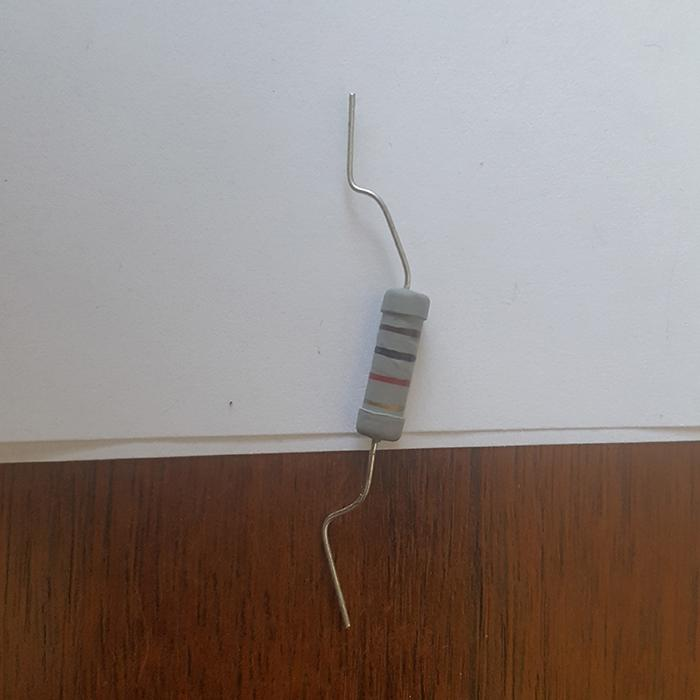resistor: (357, 287, 430, 441)
